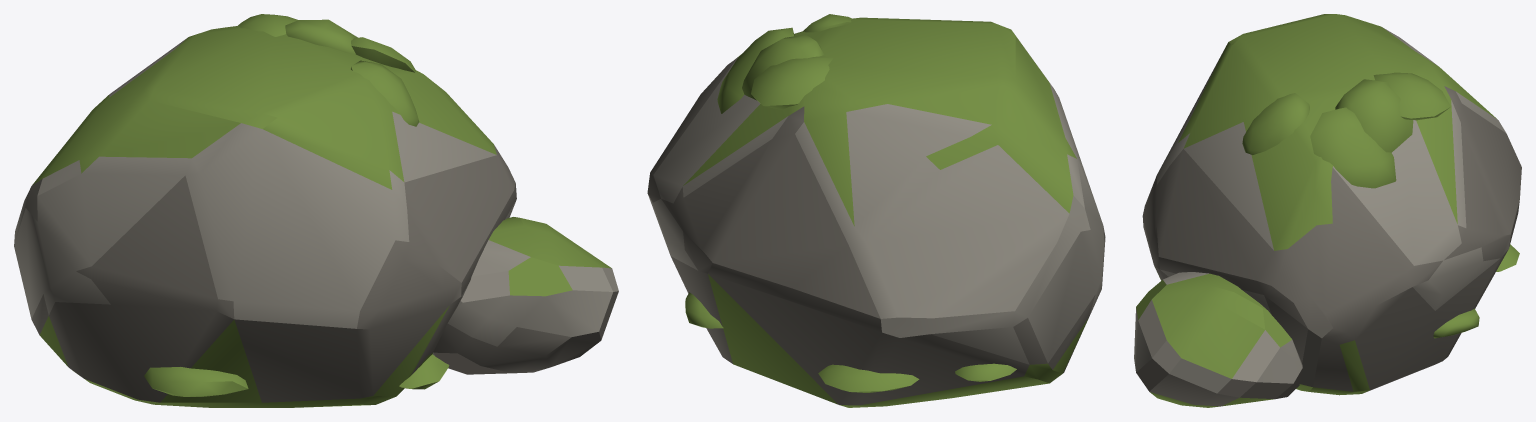
File: rock_b.glb
The picture shows the model from 3 angles, left to right: view 1: azimuth 30°, elevation 25°; view 2: azimuth 150°, elevation 25°; view 3: azimuth 270°, elevation 25°; orthographic projection. The views are drawn at different scales.
Parts seen in each view (by area): view 1: rock_b, rock_b_moss; view 2: rock_b, rock_b_moss; view 3: rock_b, rock_b_moss.
Part boxes in pixels (x1,y1,x2,y2): rock_b: (14,26,618,407); rock_b_moss: (144,14,449,396); rock_b: (647,17,1105,407); rock_b_moss: (685,14,1016,392); rock_b: (1134,14,1521,407); rock_b_moss: (1242,72,1519,338).
Size of what is drawn, in the model's own units: 1.3 by 0.7705 by 1.01.
